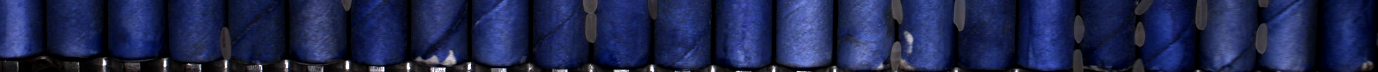broken_grain: (951, 1, 968, 33), (890, 1, 907, 24), (1134, 1, 1158, 16), (1071, 49, 1083, 72), (580, 1, 601, 13)
complete_grain: (1252, 21, 1271, 56), (583, 12, 600, 45), (1193, 1, 1210, 31), (218, 25, 232, 60), (1072, 14, 1085, 45), (1134, 21, 1147, 47)
milky_grain: (888, 39, 905, 72)
